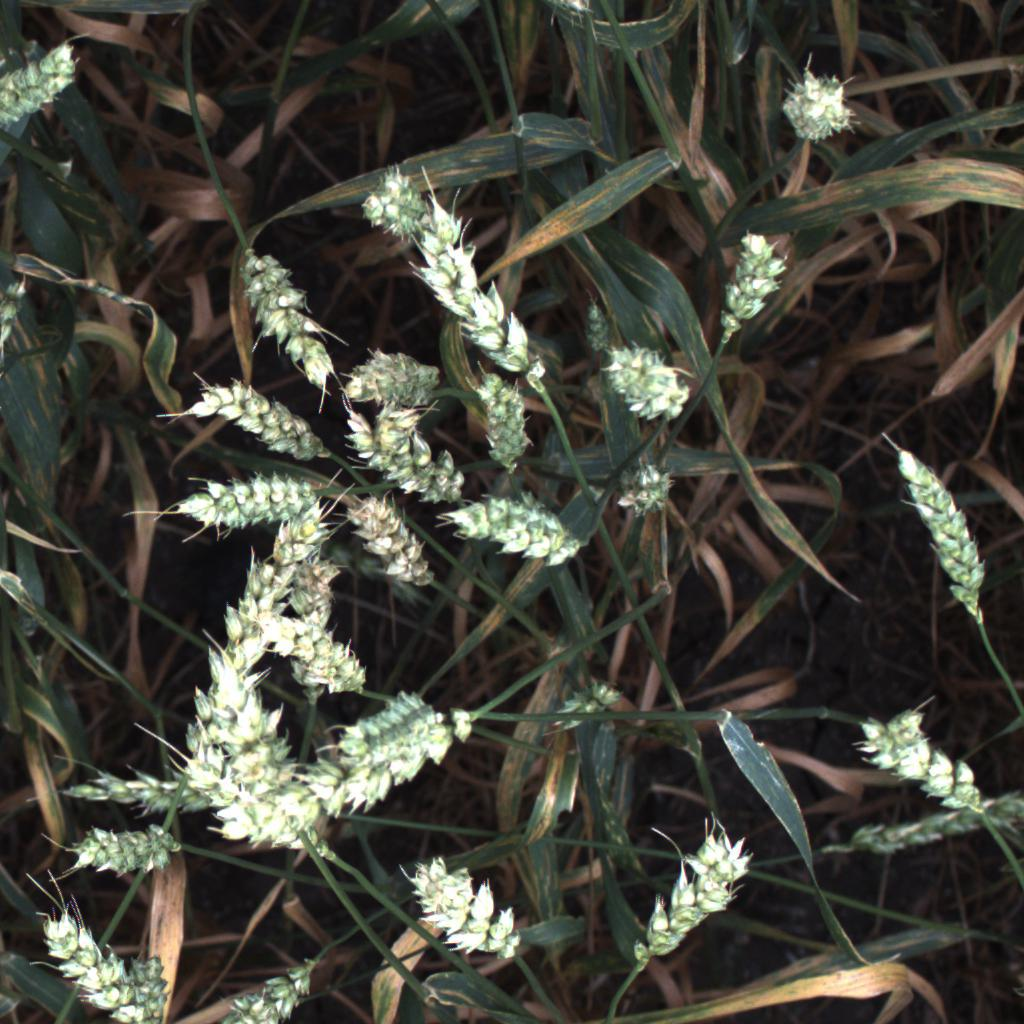0-0: (167, 561, 289, 785), (415, 190, 549, 392), (208, 225, 345, 406), (619, 813, 748, 985), (879, 430, 988, 628), (202, 649, 320, 831), (312, 702, 485, 819), (22, 882, 149, 1023), (176, 739, 337, 848), (569, 333, 719, 439), (397, 848, 529, 968), (826, 784, 1024, 864), (851, 703, 988, 817), (442, 481, 592, 584), (346, 388, 473, 507), (168, 377, 325, 473), (312, 689, 463, 773), (154, 464, 329, 530), (47, 811, 197, 887), (704, 229, 800, 345), (261, 613, 378, 704), (458, 367, 551, 480), (768, 60, 871, 156), (208, 946, 332, 1024), (0, 30, 86, 140), (339, 331, 463, 406), (345, 494, 442, 585), (286, 556, 339, 715), (46, 776, 213, 818), (253, 503, 341, 575), (358, 159, 429, 243), (371, 383, 451, 451), (618, 455, 683, 535), (132, 948, 186, 1024), (547, 684, 620, 736), (0, 274, 31, 356), (583, 300, 613, 352), (549, 0, 596, 23), (0, 0, 62, 2)
